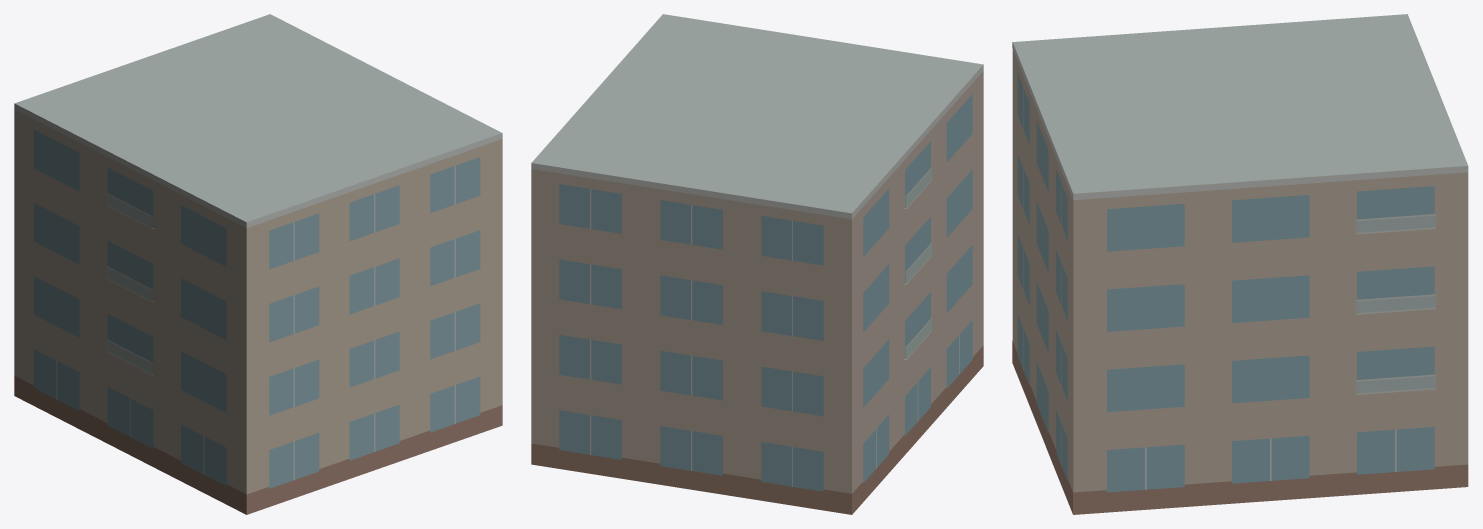
File: survey-upis-32739958.glb
3 renders of one model, left to right at view 1: azimuth 30°, elevation 25°; view 2: azimuth 150°, elevation 25°; view 3: azimuth 270°, elevation 25°, orthographic. The views are drawn at different scales.
Parts seen in each view (by area): view 1: survey-upis-32739958.tmp; view 2: survey-upis-32739958.tmp; view 3: survey-upis-32739958.tmp.
Part boxes in pixels (box(x1,y1,x2,y2)): survey-upis-32739958.tmp: box(14, 14, 502, 514); survey-upis-32739958.tmp: box(531, 14, 983, 514); survey-upis-32739958.tmp: box(1012, 14, 1468, 514).
Bounding box in the file's own units: 14.66 × 12.2 × 15.71.
